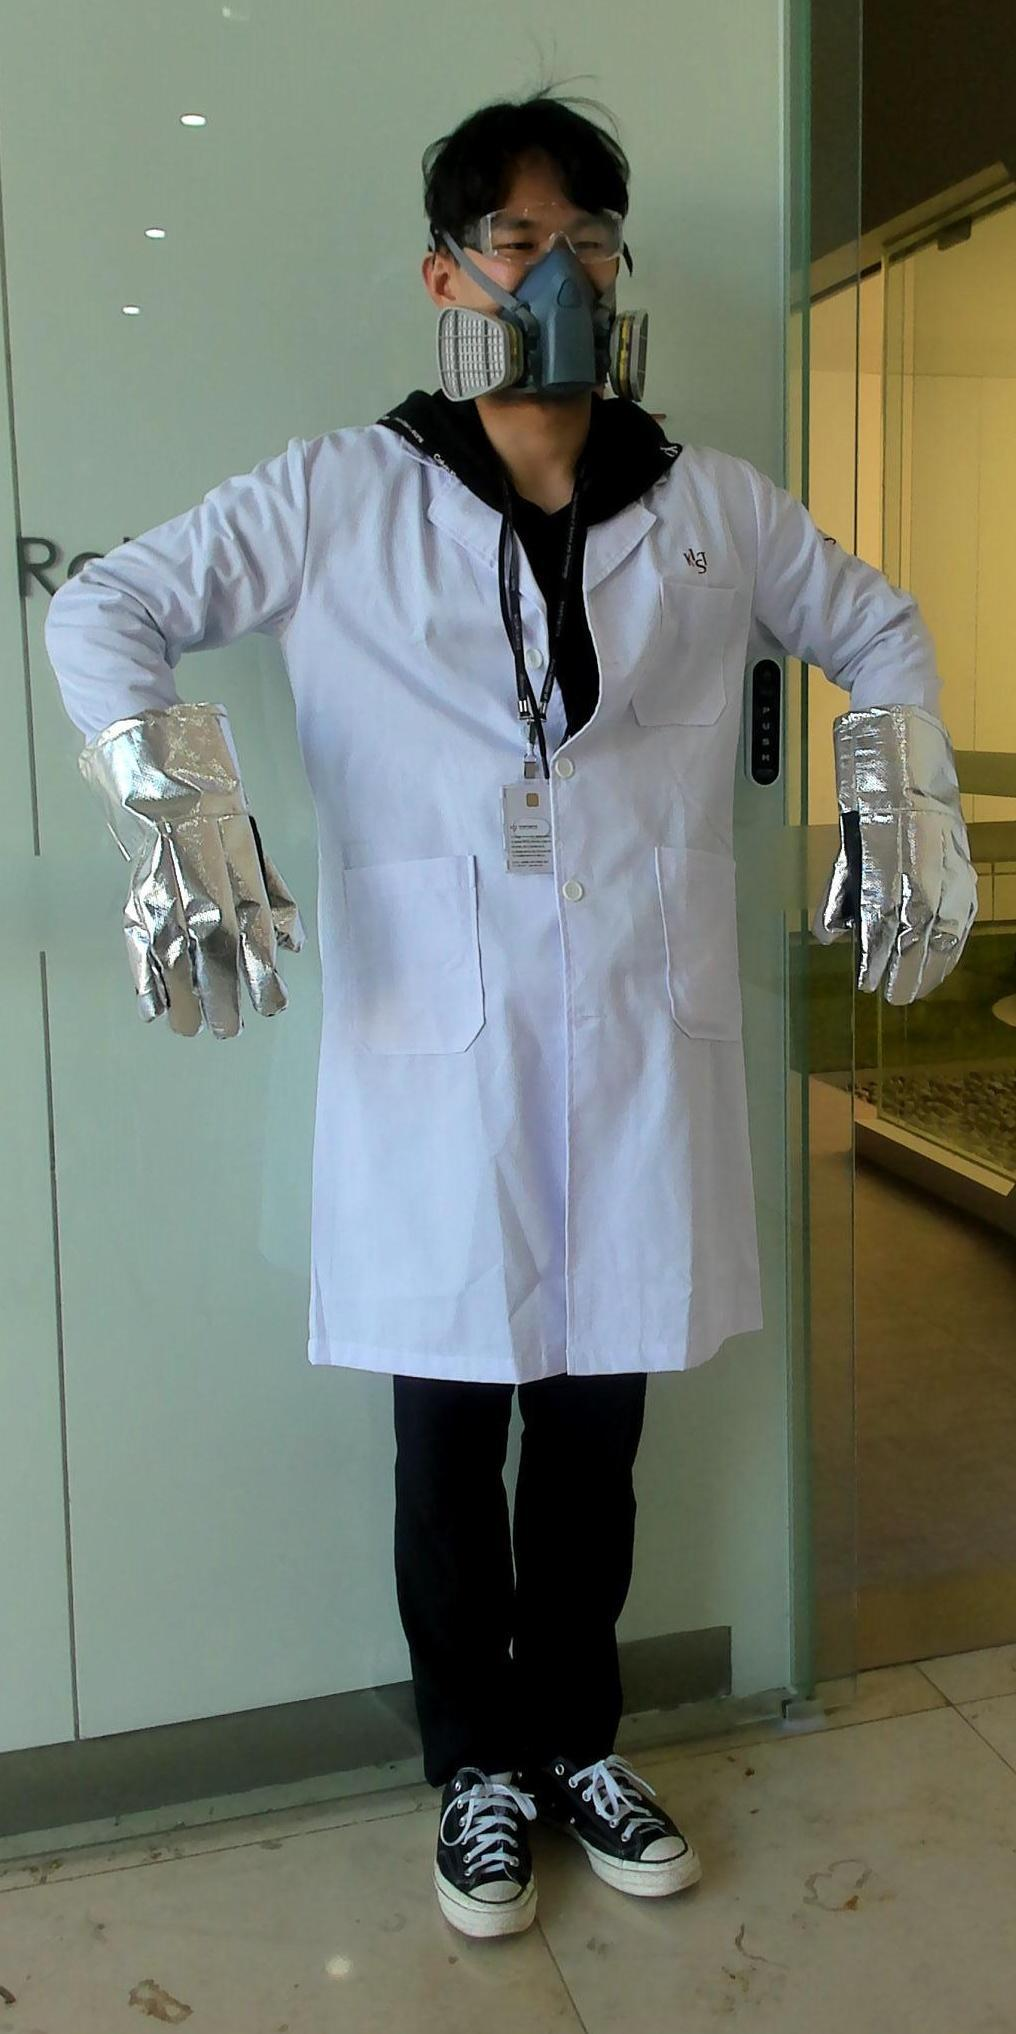lab_coat: (308, 466, 766, 1339)
